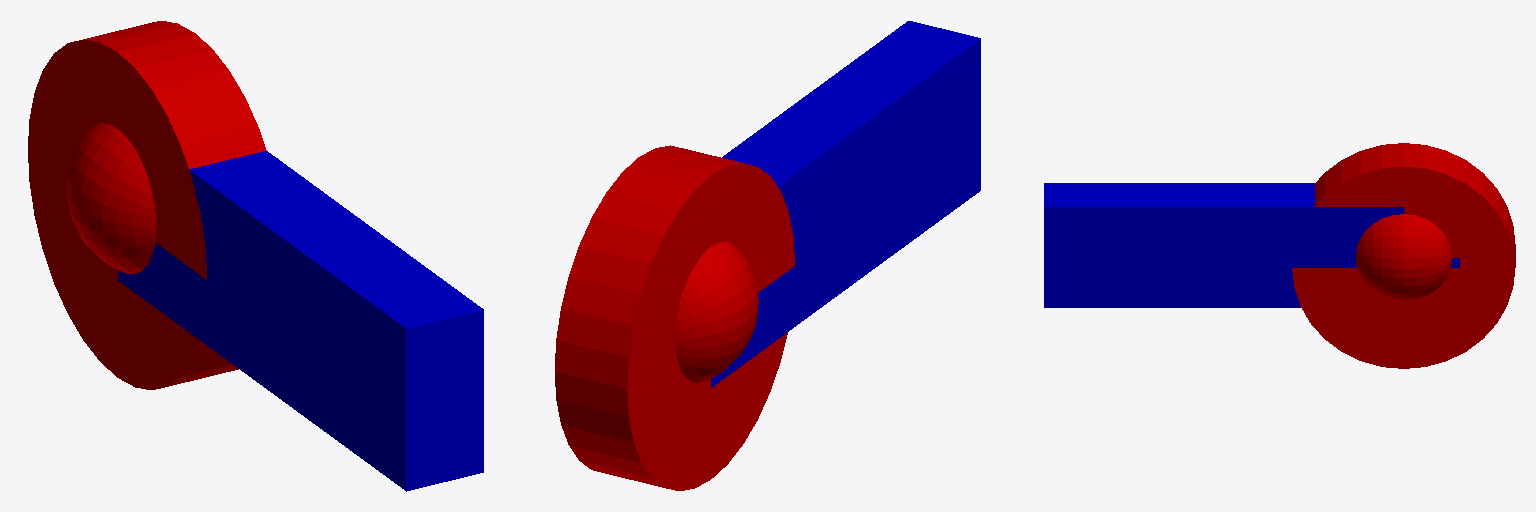
URDF robot description (TwoLinkStruct4101312941):
<?xml version="1.0"?>
<robot  name="TwoLinkStruct4101312941" >
 <material  name="blue" >
  <color  rgba="0 0 0.8 1.0" />
 </material>
 <material  name="red" >
  <color  rgba="0.8 0 0 1.0" />
 </material>
 <link  name="base_link" >
  <visual >
   <origin  rpy="0 1.5707 0"  xyz="0 0 0" />
   <material  name="red" />
   <geometry >
    <cylinder  length="0.05"  radius="0.1" />
   </geometry>
  </visual>
 </link>
 <joint  type="revolute"  name="joint1" >
  <parent  link="base_link" />
  <child  link="link1" />
  <origin  xyz="0 0 0"  rpy="0 0 0" />
  <axis  xyz="1 0 0" />
 </joint>
 <link  name="link1" >
  <inertial >
   <origin  rpy="0 0 0"  xyz="0 0 0.005" />
   <mass  value="0.0672471570968628" />
   <inertia  ixy="0.0"  iyy="2.80196487903595e-05"  izz="1.4570217370986939e-05"  ixz="0.0"  ixx="1.4570217370986939e-05"  iyz="0.0" />
  </inertial>
  <visual >
   <origin  rpy="0 0 0"  xyz="0 0 0.005" />
   <material  name="blue" />
   <geometry >
    <box  size="0.05 0.1 0.01" />
   </geometry>
  </visual>
 </link>
 <joint  type="fixed"  name="joint-joint-1" >
  <parent  link="link1" />
  <child  link="joint-link-1" />
  <origin  xyz="0 0 0.01"  rpy="1.5707 0 0" />
  <axis  xyz="1 0 0" />
 </joint>
 <link  name="joint-link-1" >
  <inertial >
   <origin  rpy="0 0 0"  xyz="0 0 0" />
   <mass  value="0.001" />
   <inertia  ixy="0"  iyy="0"  izz="0"  ixz="0"  ixx="0"  iyz="0" />
  </inertial>
  <visual >
   <origin  rpy="0 0 0"  xyz="0 0 0" />
   <material  name="red" />
   <geometry >
    <sphere  radius="0.05" />
   </geometry>
  </visual>
 </link>
 <joint  type="revolute"  name="joint2" >
  <parent  link="link1" />
  <child  link="link2" />
  <origin  xyz="0 0 0.01"  rpy="1.5707 0 0" />
  <axis  xyz="1 0 0" />
 </joint>
 <link  name="link2" >
  <inertial >
   <origin  rpy="0 0 0"  xyz="0 0 0.16081754914208188" />
   <mass  value="1.8139108732618043" />
   <inertia  ixy="0.0"  iyy="2.80196487903595e-05"  izz="0.0005937315185844449"  ixz="0.0"  ixx="0.0005937315185844449"  iyz="0.0" />
  </inertial>
  <visual >
   <origin  rpy="0 0 0"  xyz="0 0 0.16081754914208188" />
   <material  name="blue" />
   <geometry >
    <box  size="0.05 0.1 0.32163509828416376" />
   </geometry>
  </visual>
 </link>
 <joint  type="fixed"  name="eef_joint" >
  <parent  link="link2" />
  <child  link="eef" />
  <origin  xyz="0 0 0.32163509828416376"  rpy="0 0 0" />
 </joint>
 <link  name="eef" >
  <inertial >
   <origin  rpy="0 0 0"  xyz="0 0 0" />
   <mass  value="1" />
   <inertia  ixy="0"  iyy="0"  izz="0"  ixz="0"  ixx="0"  iyz="0" />
  </inertial>
 </link>
 <transmission  name="motor1" >
  <type  xmltext="SimpleTransmission" >
   SimpleTransmission
  </type>
  <actuator  name="motor1" >
   <mechanicalreduction  xmltext="1" >
    1
   </mechanicalreduction>
  </actuator>
  <joint  name="joint1" />
 </transmission>
 <transmission  name="motor2" >
  <type  xmltext="SimpleTransmission" >
   SimpleTransmission
  </type>
  <actuator  name="motor2" >
   <mechanicalreduction  xmltext="1" >
    1
   </mechanicalreduction>
  </actuator>
  <joint  name="joint2" />
 </transmission>
</robot>

<!-- {'carti': array([-0.1 ,  0.14,  0.85]), 'cartd': array([-0.1 ,  0.32,  1.29]), 'tau_mu': 0.3681758359380278, 'b0': 0.40277479711675845, 'Km': 5.0, 'k_velocity': 0.01, 'tau_max_m': 0.001, 'omega_max_m': 1000.0, 'gear_ratio': 25.0, 'Kp': 0.0, 'Kd': 32.39523248849452, 'm_m': 0.001, 'l1': 0.01, 'l2': 0.32163509828416376, 'k1': 1000.0, 'k2': 379000000.0, 'k3': 379000000.0}-->

--- Facts derived from the render (not from the file) ---
The picture shows the robot from 3 angles, left to right: view 1: azimuth 30°, elevation 25°; view 2: azimuth 150°, elevation 25°; view 3: azimuth 270°, elevation 25°; orthographic projection.
Robot: TwoLinkStruct4101312941 — 5 links, 4 joints (2 revolute, 2 fixed); root link base_link; default pose: all joints at 0.
Visible links, largest first — view 1: link2, base_link, joint-link-1; view 2: base_link, link2, joint-link-1; view 3: link2, base_link, joint-link-1.
Link boxes in pixels (<box>): link2: <box>118,151,483,491</box>; base_link: <box>28,21,266,389</box>; joint-link-1: <box>67,123,155,273</box>; base_link: <box>555,145,794,490</box>; link2: <box>711,21,980,387</box>; joint-link-1: <box>675,241,758,382</box>; link2: <box>1044,183,1403,307</box>; base_link: <box>1292,143,1515,368</box>; joint-link-1: <box>1356,214,1451,300</box>.
Bounding box of the posed robot: 0.1 × 0.4216 × 0.2 m (x, y, z).
Geometry: primitives only (box / cylinder / sphere), no mesh files.
